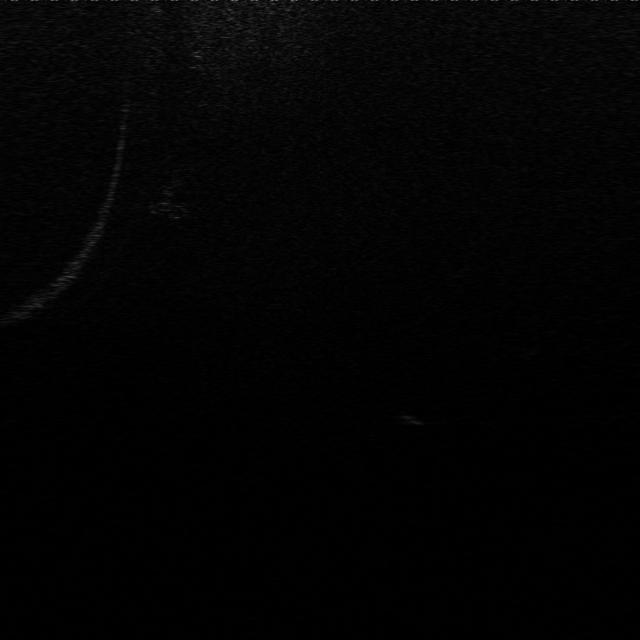ball: (394, 406, 436, 429)
tyre: (143, 190, 199, 222)
